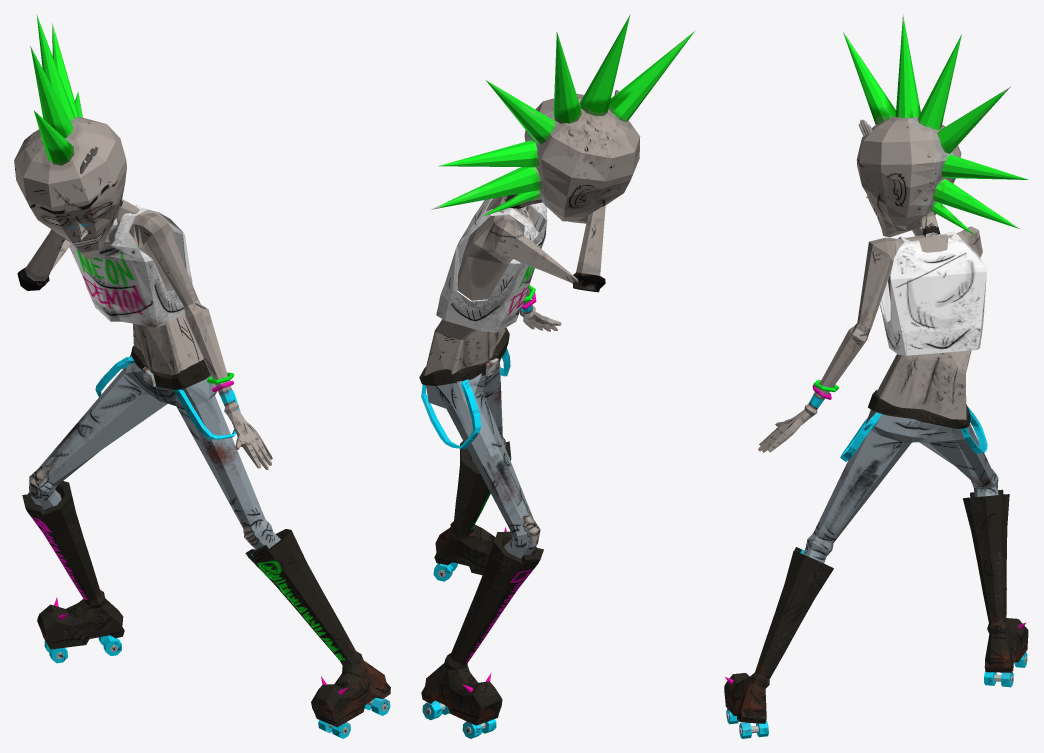
File: punkAnimation_000047.obj
3 views of the same model, side by side, from view 1: azimuth 30°, elevation 25°; view 2: azimuth 150°, elevation 25°; view 3: azimuth 270°, elevation 25° (orthographic). The views are drawn at different scales.
Parts seen in each view (by area): view 1: Cube.004_Cube.003; view 2: Cube.004_Cube.003; view 3: Cube.004_Cube.003.
Part boxes in pixels (x1=…): Cube.004_Cube.003: x1=14, y1=14, x2=390, y2=738; Cube.004_Cube.003: x1=419, y1=14, x2=695, y2=738; Cube.004_Cube.003: x1=724, y1=15, x2=1028, y2=738.
Size of the model in its own units: 3.14 by 6.72 by 3.03.
